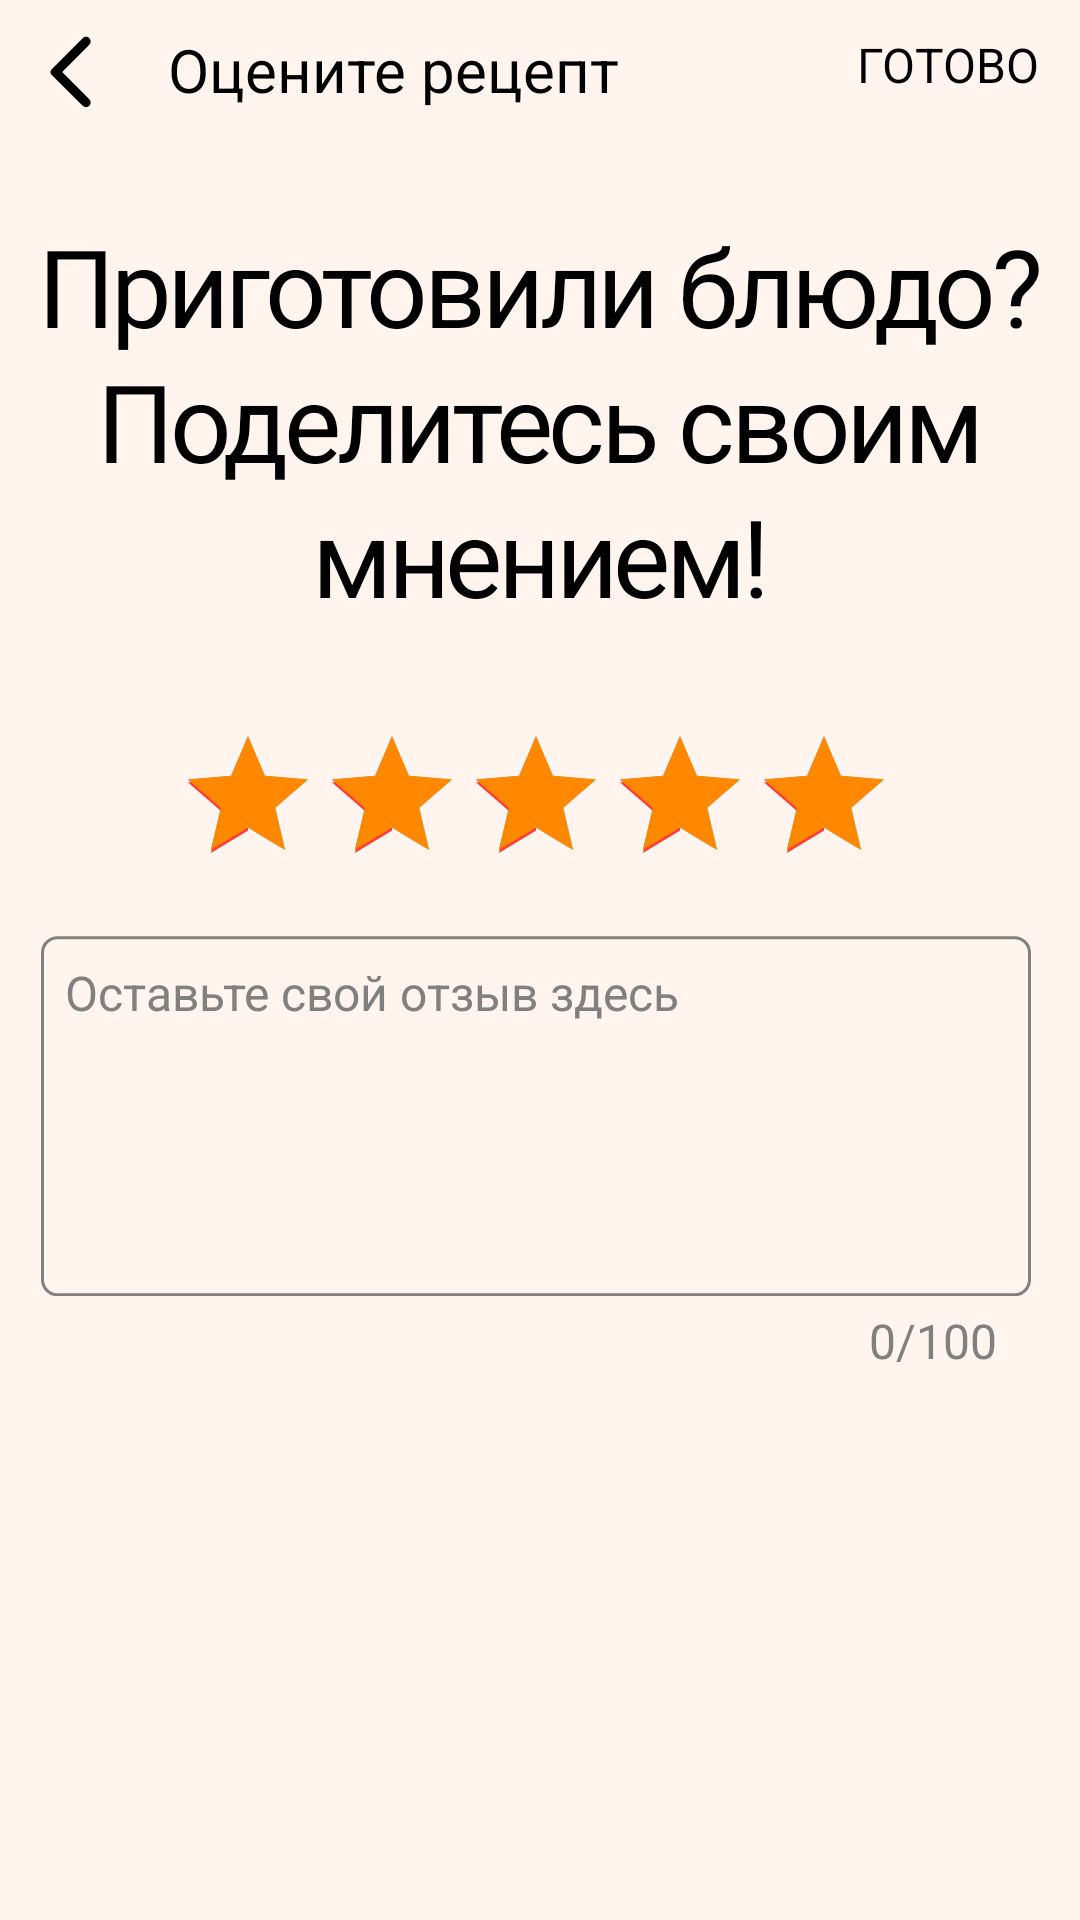

Named icons in this screenshot (1080 x 1920) and their centers, (x=x, y=y):
Назад: (x=70, y=72)
